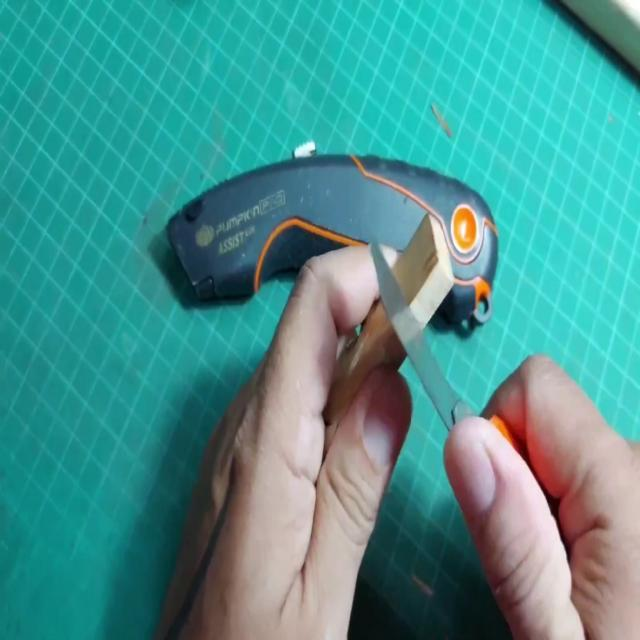cutter: (144, 127, 640, 640)
